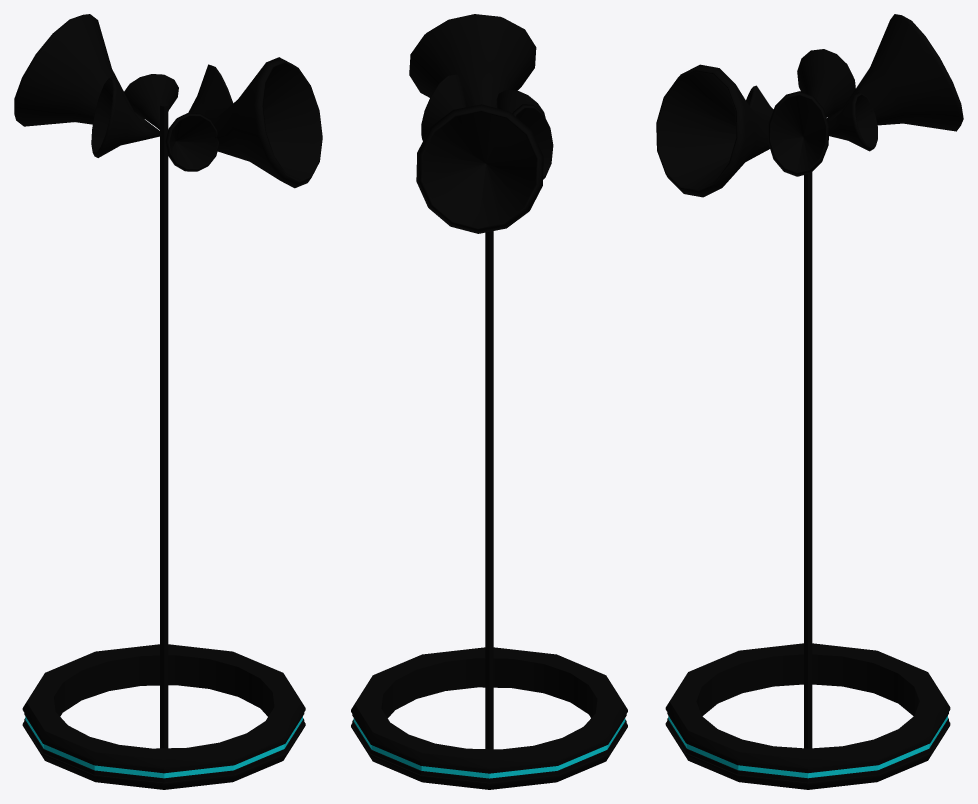
The model's file is SoundTriggerNormal.fbx.
3 views of the same model, side by side, from view 1: azimuth 30°, elevation 25°; view 2: azimuth 150°, elevation 25°; view 3: azimuth 270°, elevation 25° (orthographic). The views are drawn at different scales.
Visible parts, largest first — view 1: SoundTriggerNormal; view 2: SoundTriggerNormal; view 3: SoundTriggerNormal.
Part boxes in pixels (x1,y1,x2,y2): SoundTriggerNormal: (14,14,322,789); SoundTriggerNormal: (351,14,627,789); SoundTriggerNormal: (656,14,963,789).
Bounding box in the file's own units: 2.55 × 7.33 × 2.75.
